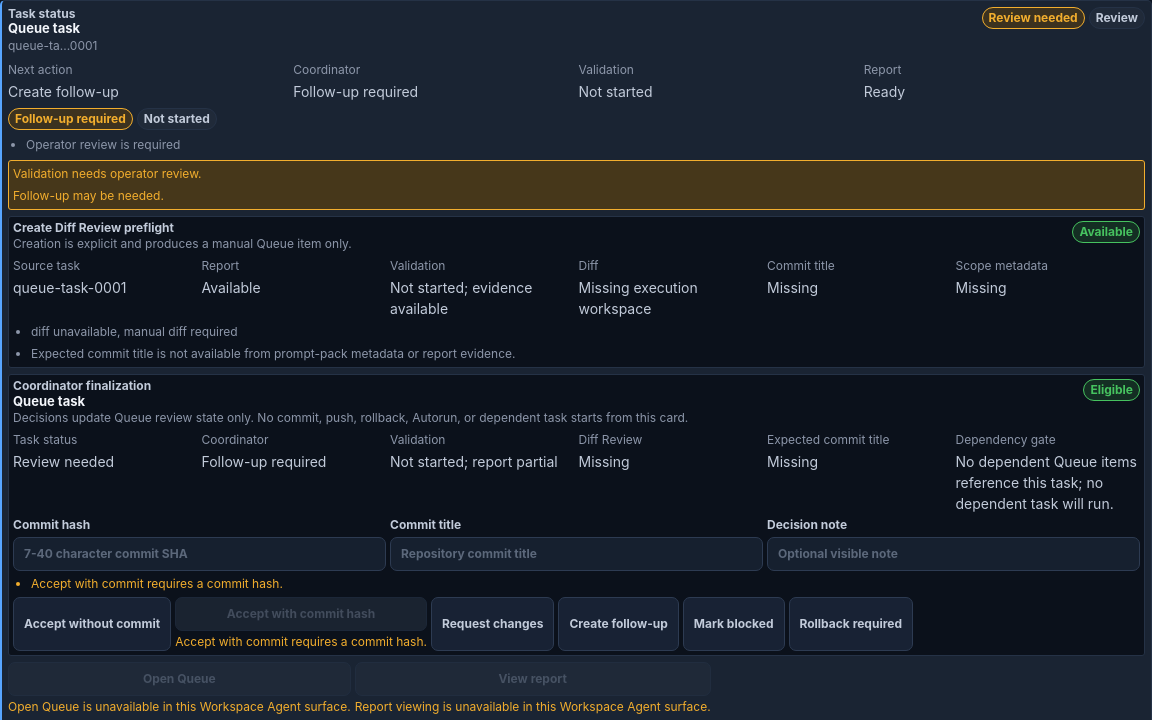
Test case: WorkspaceAgentQueueTaskStatusCard › creates a follow-up through the Queue action without running it
Click the button "Create follow-up".
click(619, 624)  # box top-left (558, 597), bottom-right (679, 651)
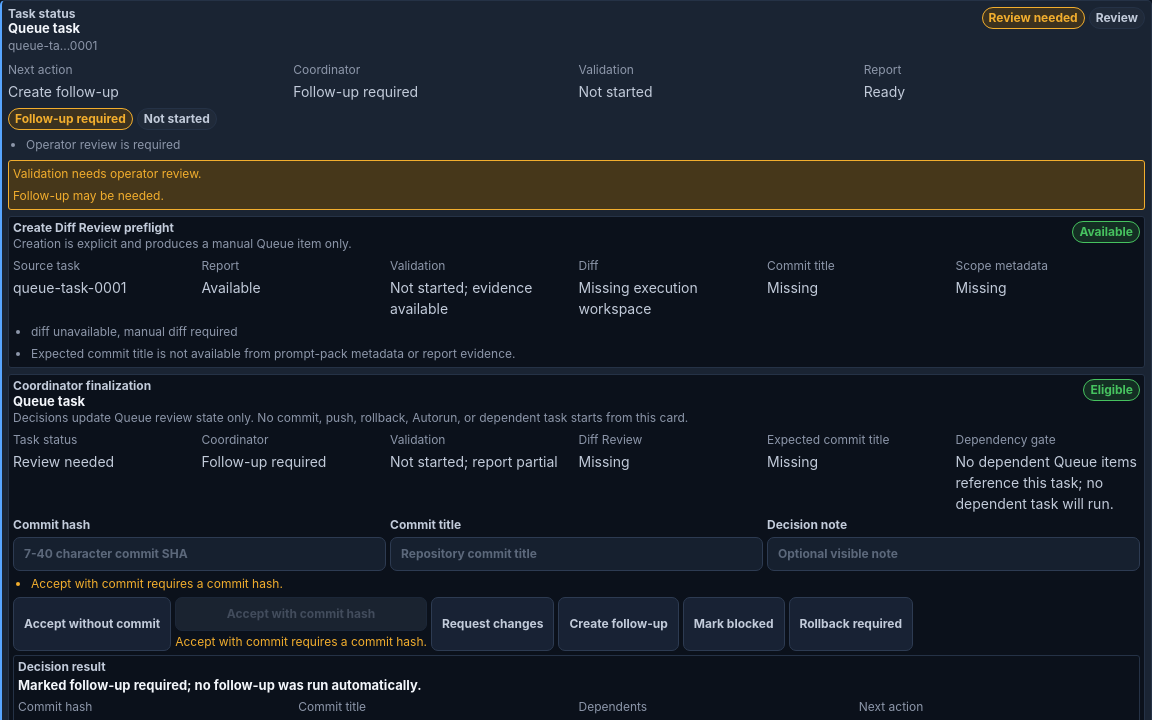
Expected: the text "Marked follow-up required; no follow-up was run automatically." is shown, top-left (18, 677), bottom-right (422, 693)
